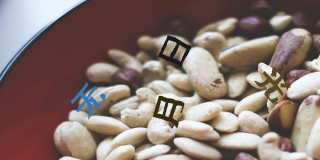光: (254, 67, 290, 103)
无: (69, 82, 105, 119)
日: (157, 35, 191, 66)
月: (153, 95, 184, 127)
